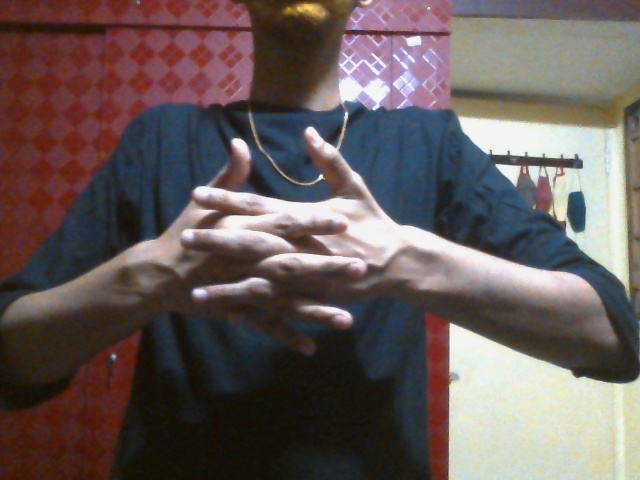W: (168, 127, 404, 358)
